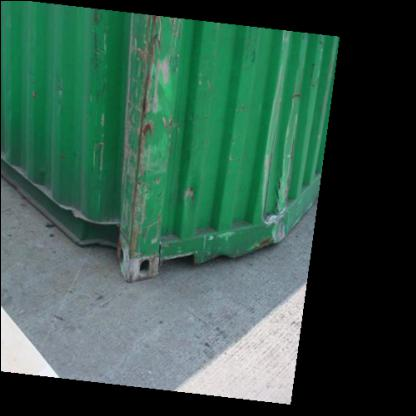Damage: (112, 26, 174, 260), (257, 90, 313, 251)
